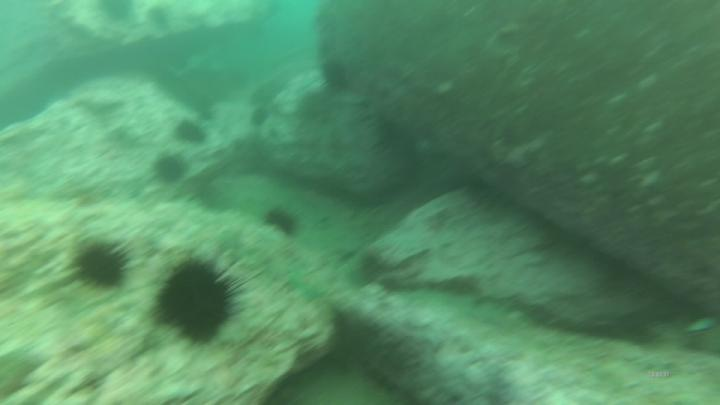echinus: (154, 259, 240, 348), (73, 240, 131, 295), (152, 153, 192, 193), (264, 203, 300, 241), (322, 57, 352, 94), (177, 117, 205, 149)
